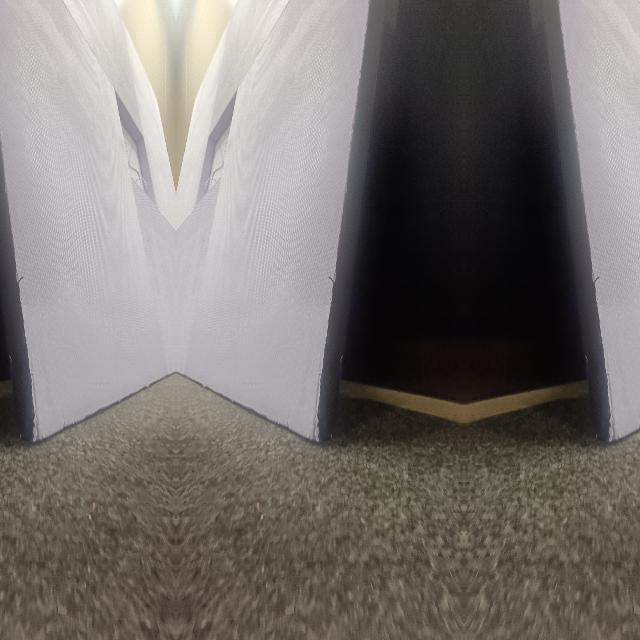obstacle: (185, 192, 369, 448), (0, 192, 165, 447), (558, 192, 640, 447)
